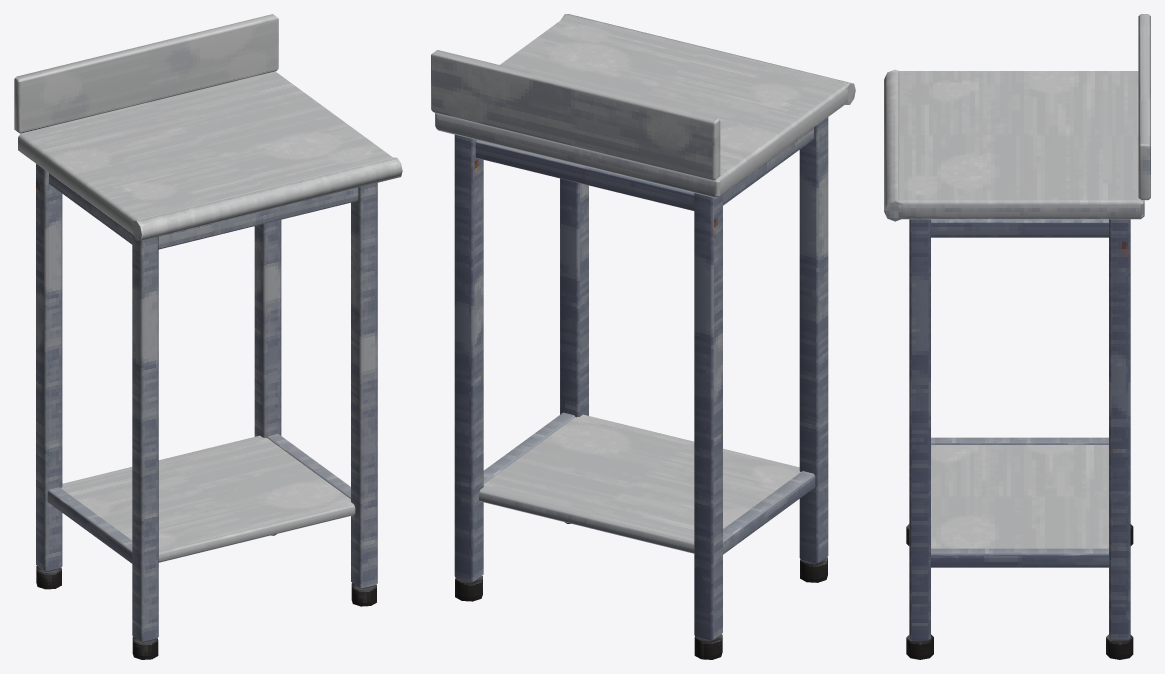
File: steel_table.glb
3 views of the same model, side by side, from view 1: azimuth 30°, elevation 25°; view 2: azimuth 150°, elevation 25°; view 3: azimuth 270°, elevation 25° (orthographic). The views are drawn at different scales.
Parts seen in each view (by area): view 1: mesh; view 2: mesh; view 3: mesh.
Boxes of the visible parts, box(x1,y1,x2,y2) form: mesh: box(14, 14, 402, 659); mesh: box(431, 14, 855, 659); mesh: box(884, 14, 1150, 659).
Size of the model in its own units: 0.5001 by 0.92 by 0.428.
Materials: 1 (1 with a texture image).
